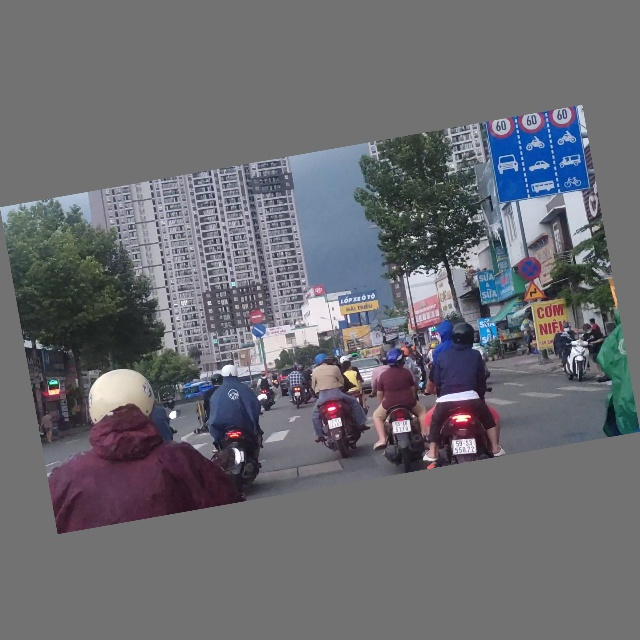I.407a: (333, 348, 342, 357)
I.434a: (397, 331, 406, 343)
P.102: (249, 310, 265, 325)
P.127*60: (548, 107, 577, 131), (487, 118, 516, 141), (518, 113, 546, 135)
P.130: (516, 255, 543, 282)
R.302a: (251, 324, 267, 339)
R.415a: (488, 126, 590, 205)
W.202b: (520, 280, 546, 304)
